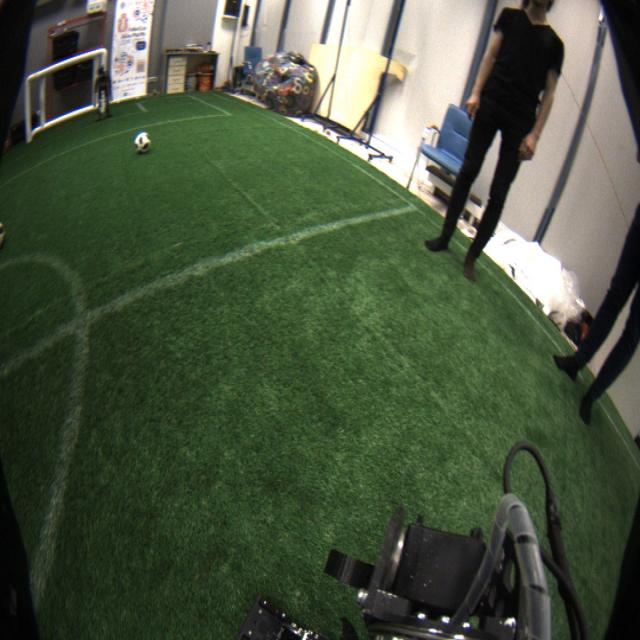ball: (134, 132, 151, 157)
goalpost: (98, 49, 109, 113), (23, 74, 33, 143)
